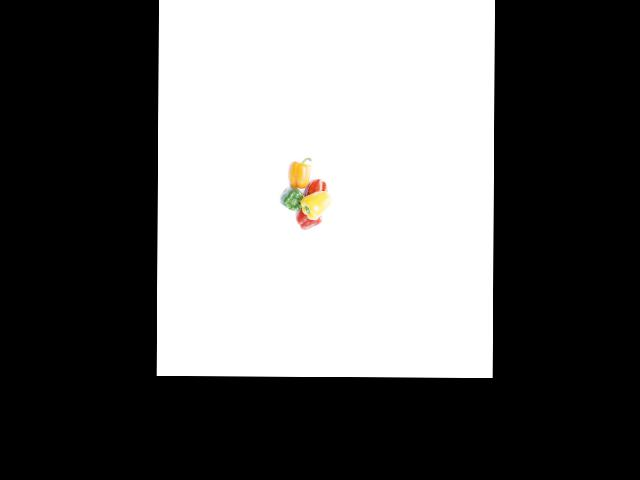bell_pepper: (276, 185, 310, 216)
